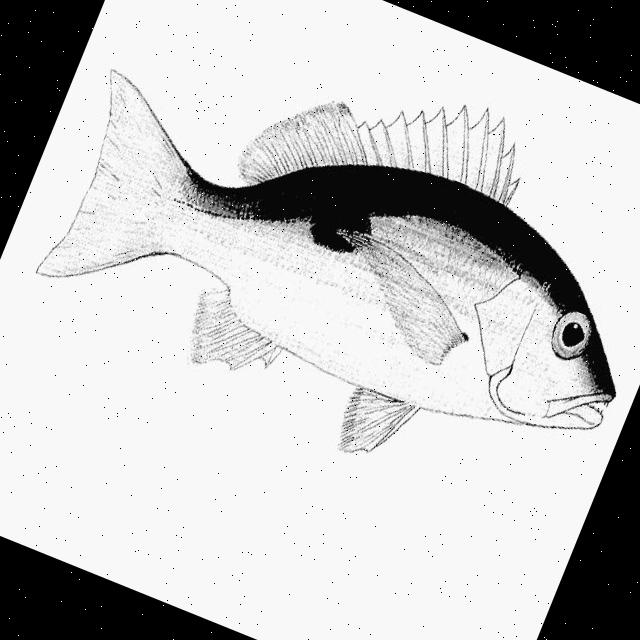ikan: (10, 0, 640, 538)
